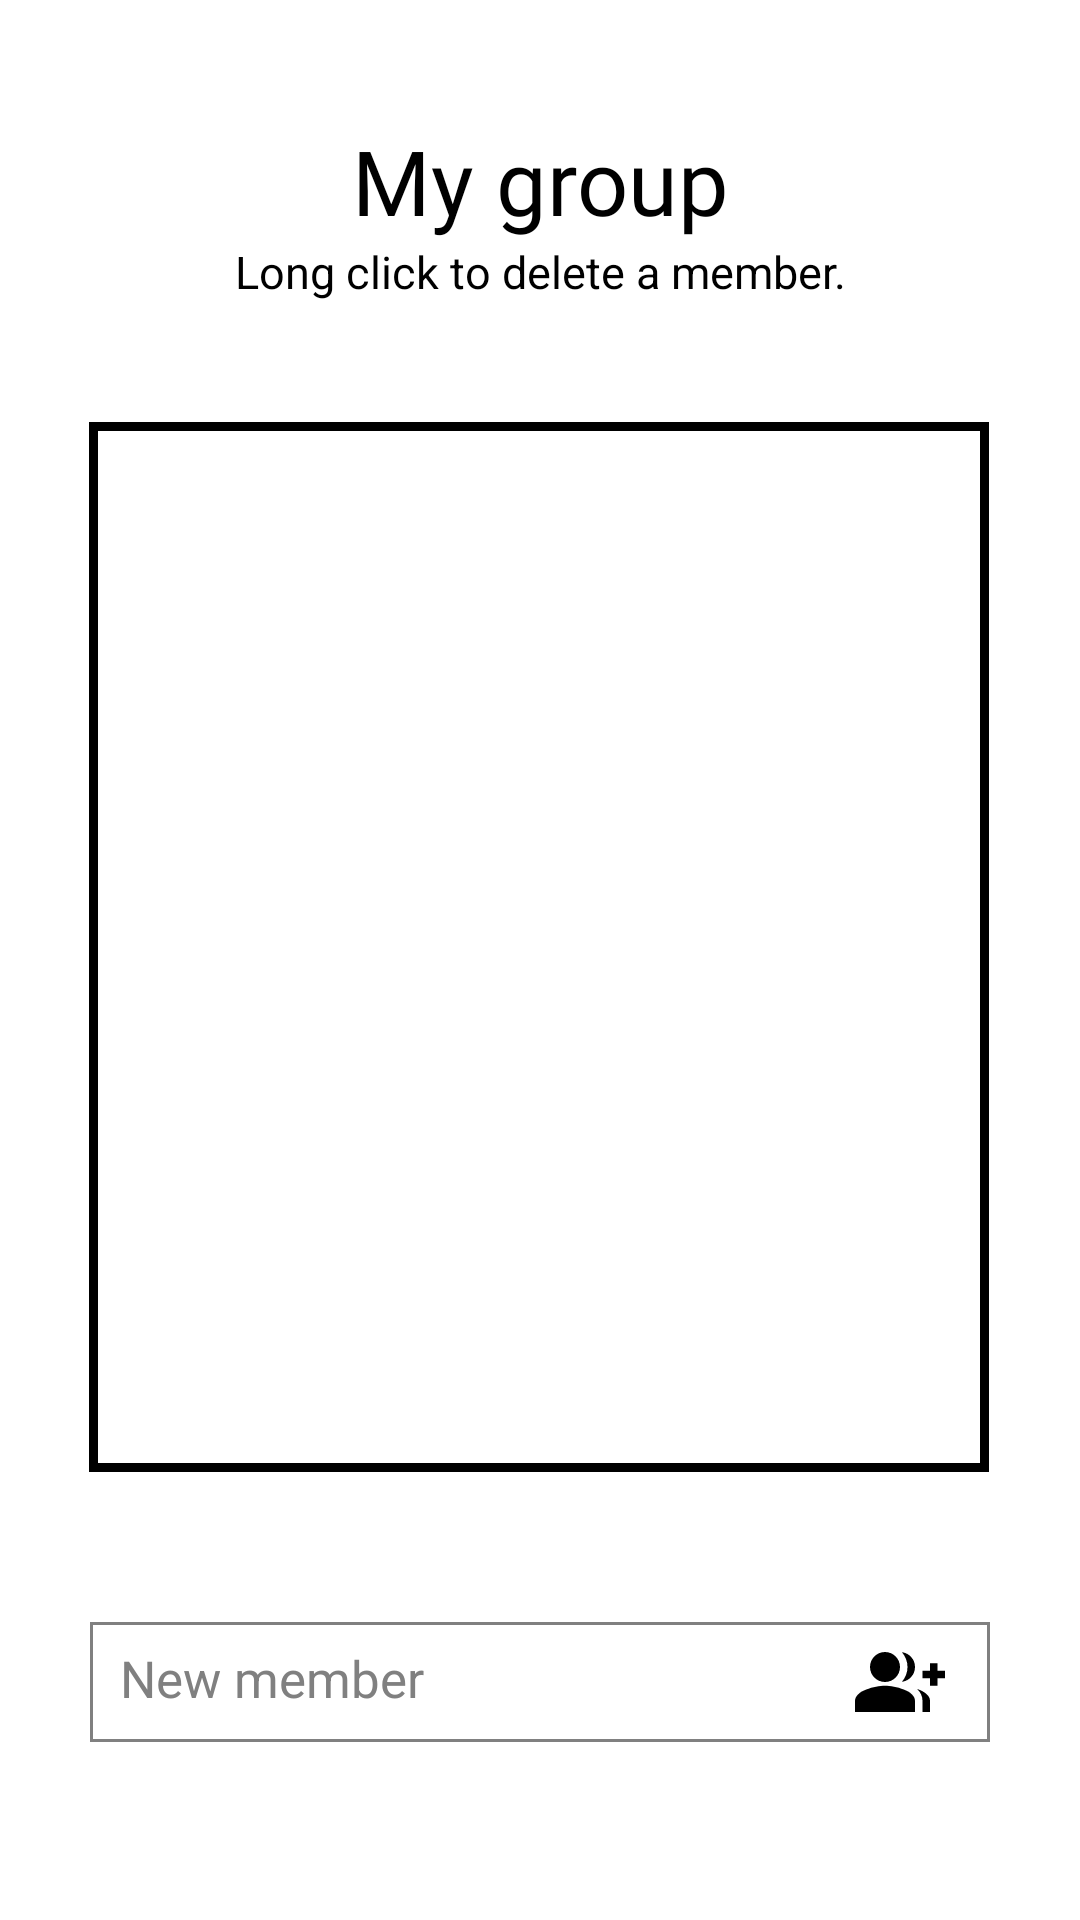

Named icons in this screenshot (1080px x 1920px) and their centers, [x,y]:
add: [900,1682]
